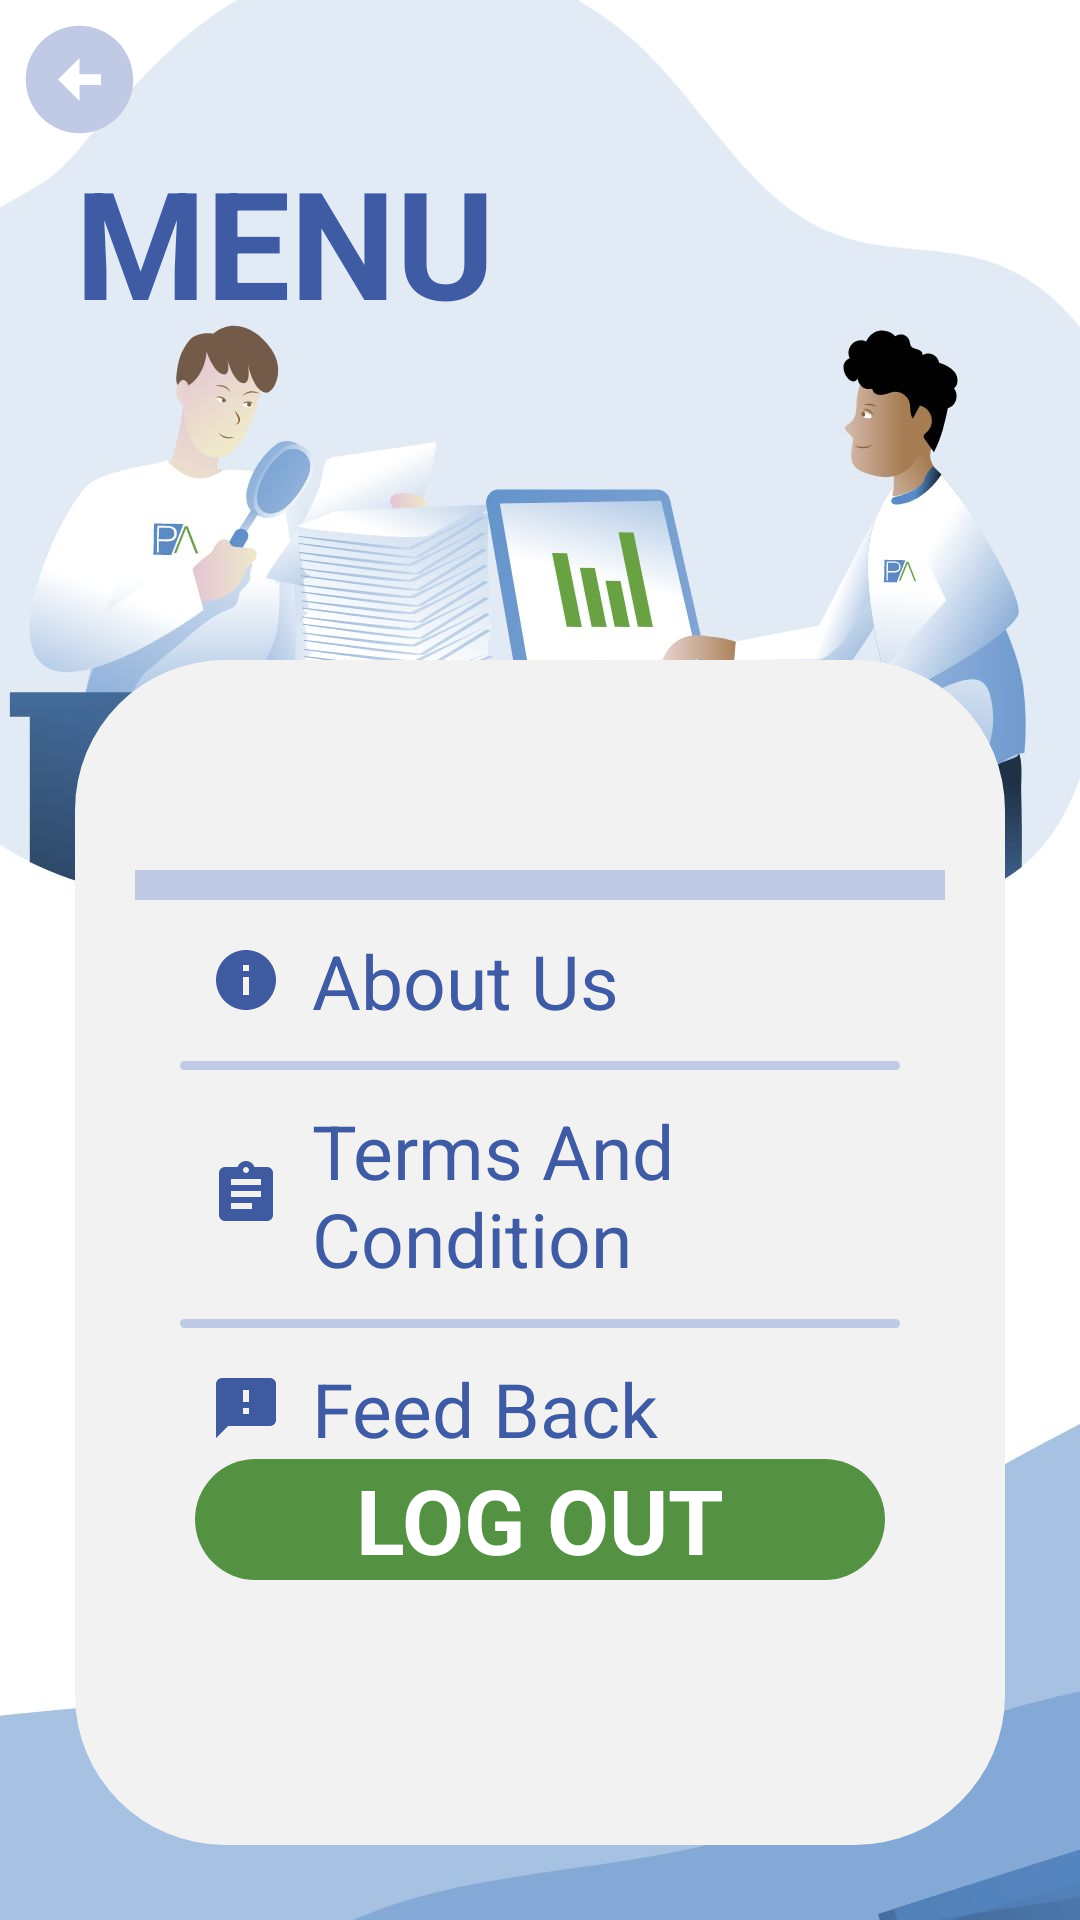

Where to tap for icons on this 1080px×1920px app screen, as [x,y]:
arrow circle left: [85,85]
